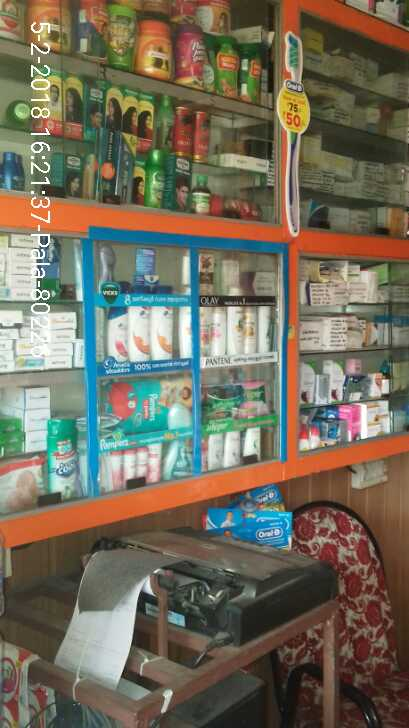vicks: (136, 269, 165, 289)
